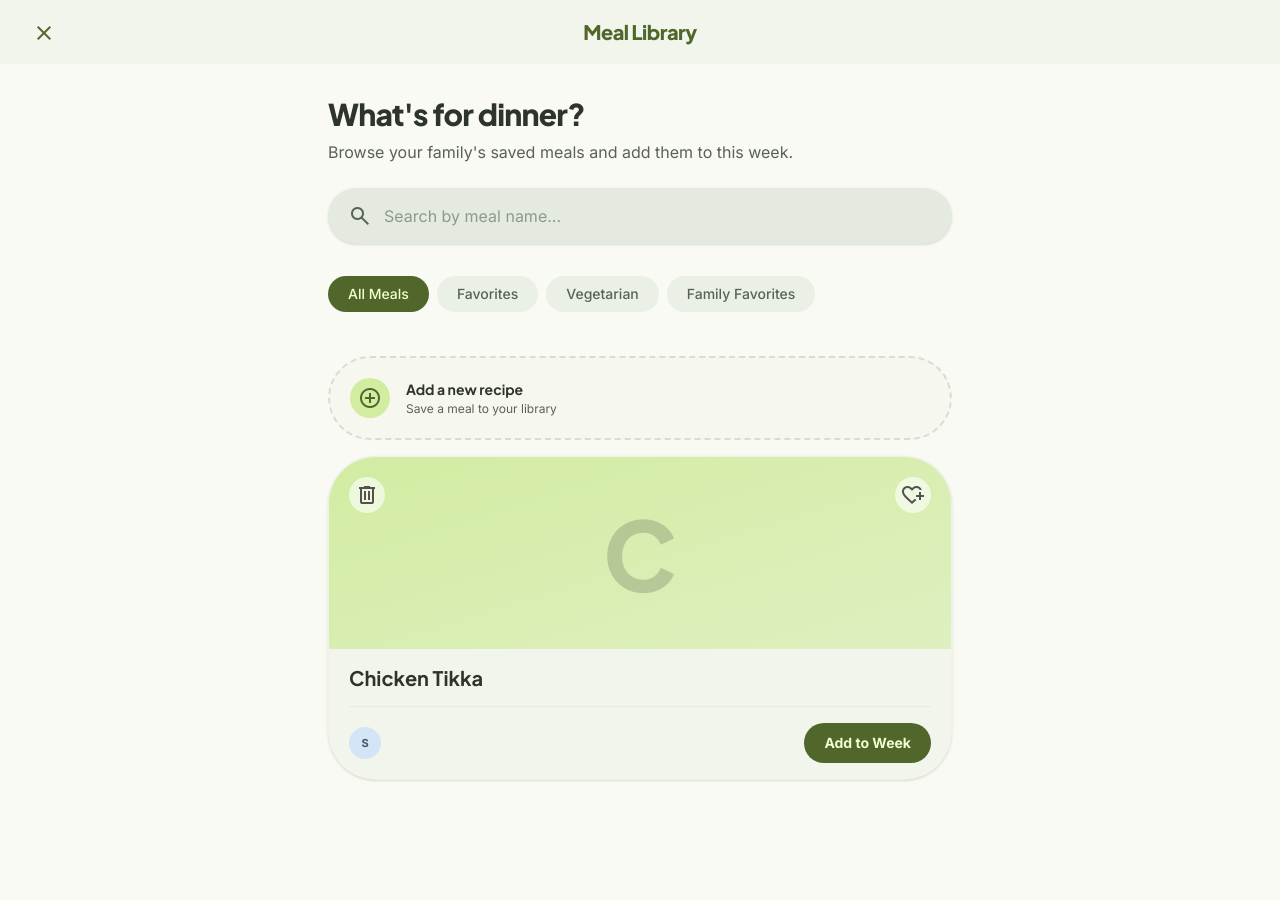
Test: MealLibrary › shows a confirmation modal when delete is clicked
Expected: the heading "Chicken Tikka" is shown, [349, 665, 483, 690]
Click the 7th button.
click(367, 495)  # box [349, 477, 385, 513]
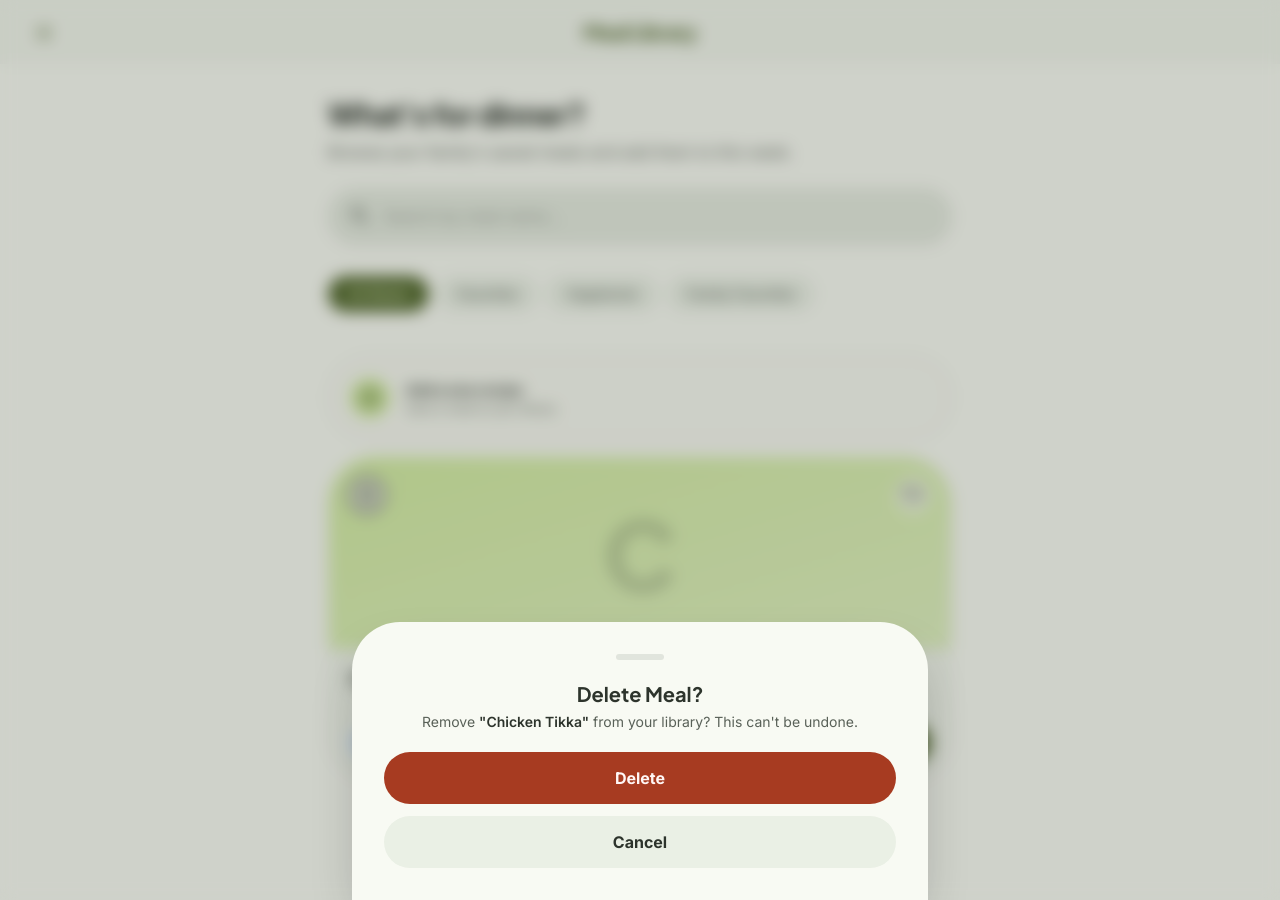
Result: the heading "Delete Meal?" is shown at [577, 681, 703, 706]
Result: the text "\"Chicken Tikka\"" is shown at [479, 713, 589, 730]
